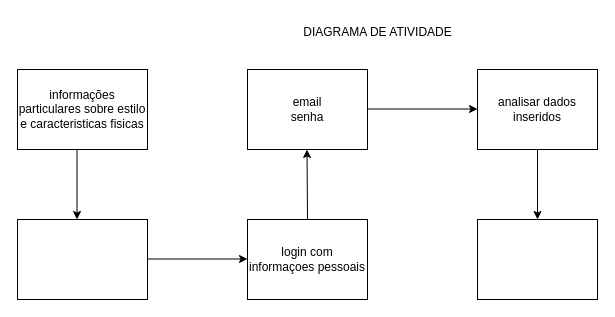
The diagram is 615 pixels wide and 317 high, and some of its shapes have lost their labels. The shapes that lost their labels are listed below. From the top down, each one's centre as x and y in pixels, then its label:
At (x=82, y=259): "-cores -estilo de roupas -altura -peso -genero".
At (x=537, y=259): "exibir resultados conforme as informações inseridas".
